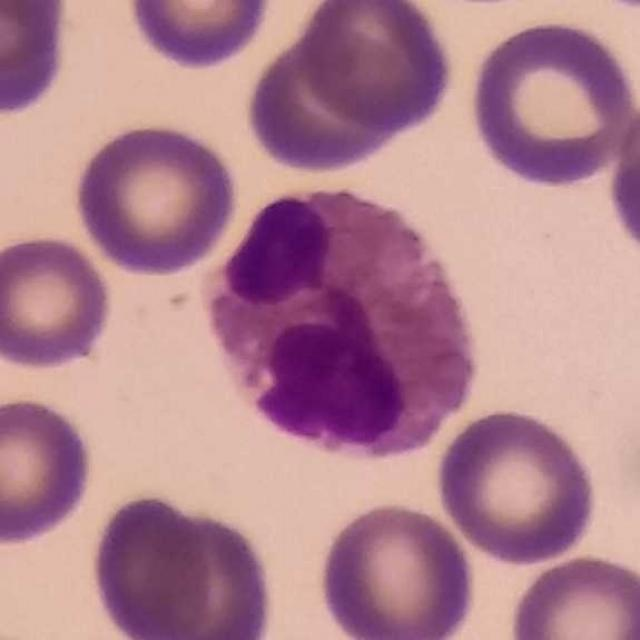Eosinophil: (207, 181, 472, 463)
RBC: (464, 14, 639, 190), (240, 22, 427, 178), (432, 404, 602, 568), (70, 118, 242, 277), (315, 497, 478, 640), (292, 0, 458, 138), (121, 502, 282, 640), (87, 490, 216, 639), (0, 230, 117, 374), (0, 393, 98, 548), (504, 550, 640, 640), (121, 0, 277, 72), (0, 0, 74, 121), (603, 89, 640, 277)
